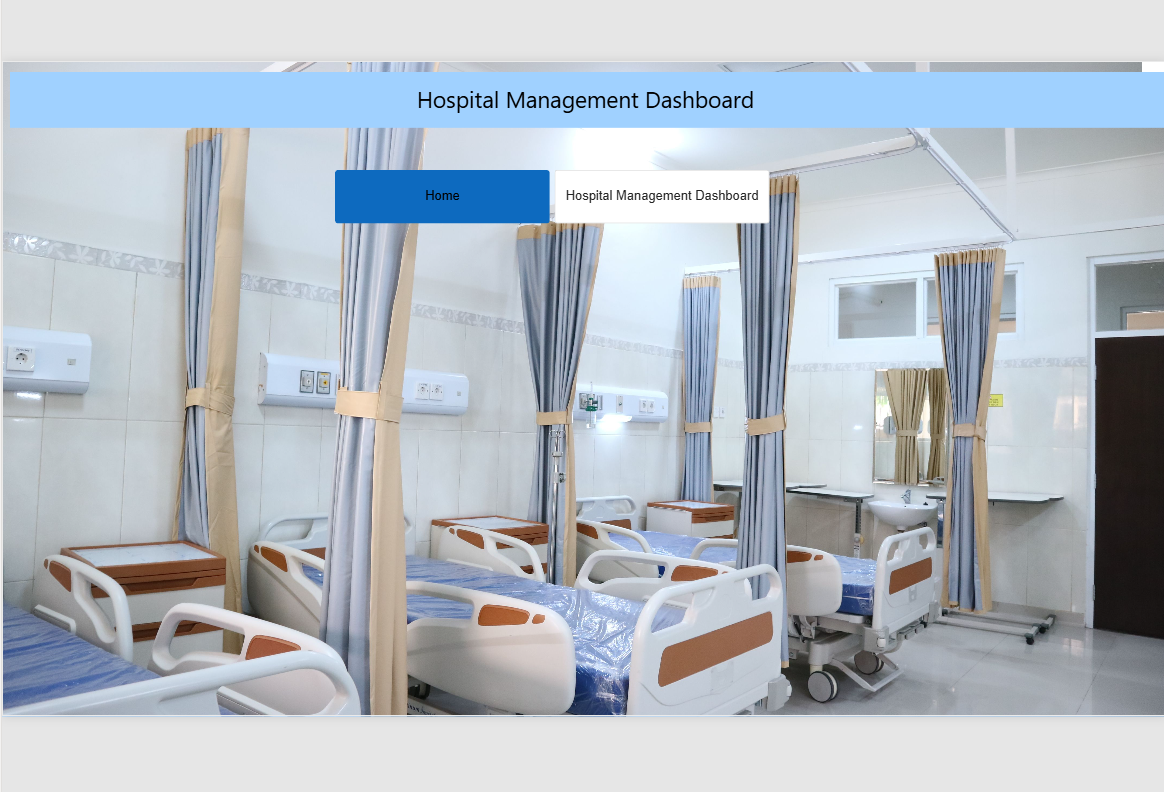

The dashboard page shown, as its layout file describes it:
{"tool":"powerbi","page":{"name":"Home","canvas":[1920,1080],"ordinal":0},"visuals":[{"type":"image","box":[0,0,1920,1079.6],"z":0},{"type":"textbox","box":[13.2,18.1,1906.8,92.3],"z":1000},{"type":"pageNavigator","box":[548.8,179.6,716.9,89],"z":2000}]}

Visuals, with their boxes on the page's 1920x1080 design canvas (x1, y1, x2, y2). These are canvas units, not pixel positions in the 1164x792 screenshot, which may show the page scaled, cropped or inside an application window:
image: x1=0, y1=0, x2=1920, y2=1080
textbox: x1=13, y1=18, x2=1920, y2=110
pageNavigator: x1=549, y1=180, x2=1266, y2=269
